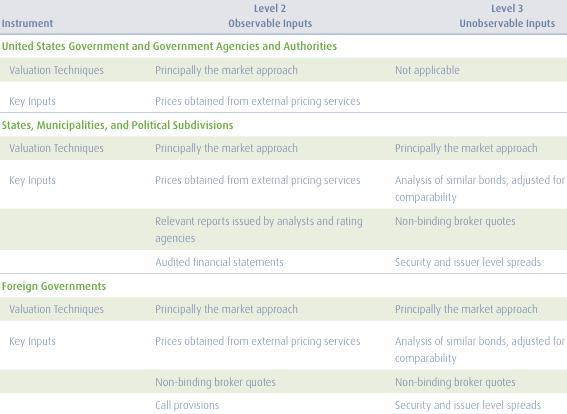table: (0, 1, 564, 410)
table column: (128, 1, 377, 410), (377, 1, 564, 410), (0, 1, 128, 410)
table column header: (0, 1, 564, 33)
table projected row header: (0, 33, 564, 57), (0, 272, 564, 296), (0, 112, 564, 135)
table row: (0, 163, 564, 208), (0, 324, 564, 369), (0, 208, 564, 249), (0, 1, 564, 33), (0, 84, 564, 112), (0, 135, 564, 163), (0, 296, 564, 324), (0, 57, 564, 84), (0, 33, 564, 57), (0, 272, 564, 296), (0, 112, 564, 135), (0, 249, 564, 272), (0, 369, 564, 392), (0, 392, 564, 410)
table spanning cell: (0, 163, 128, 272), (0, 324, 128, 410)
